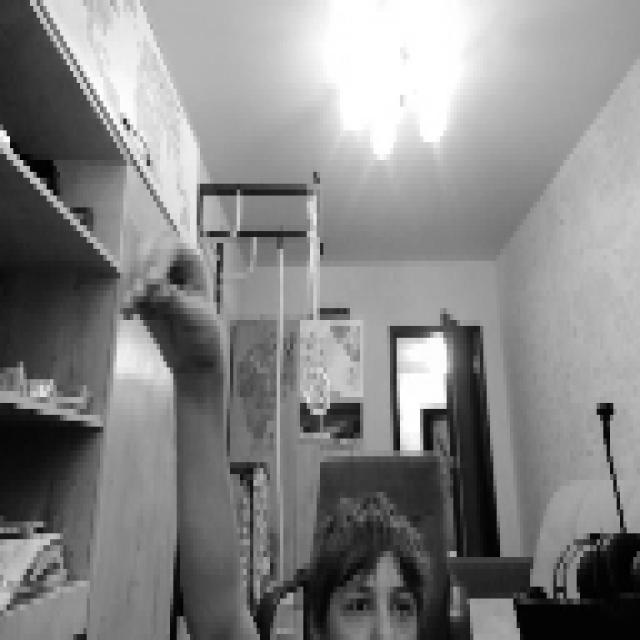left_click: (114, 219, 214, 350)
